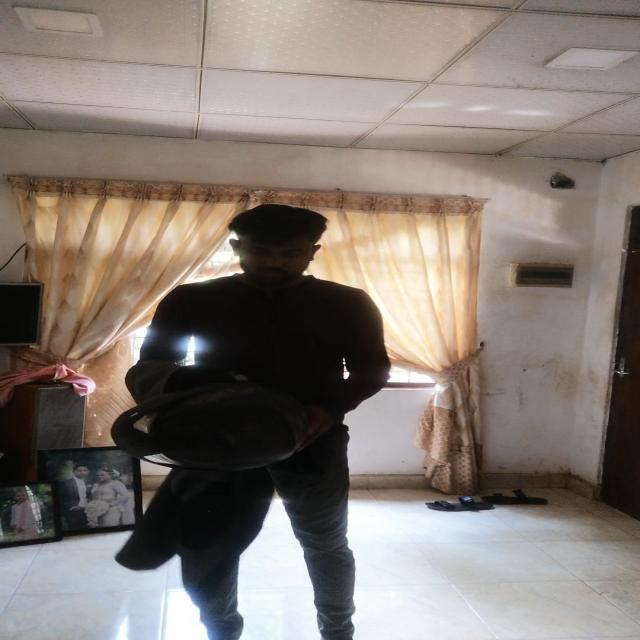Person: (153, 199, 382, 640)
